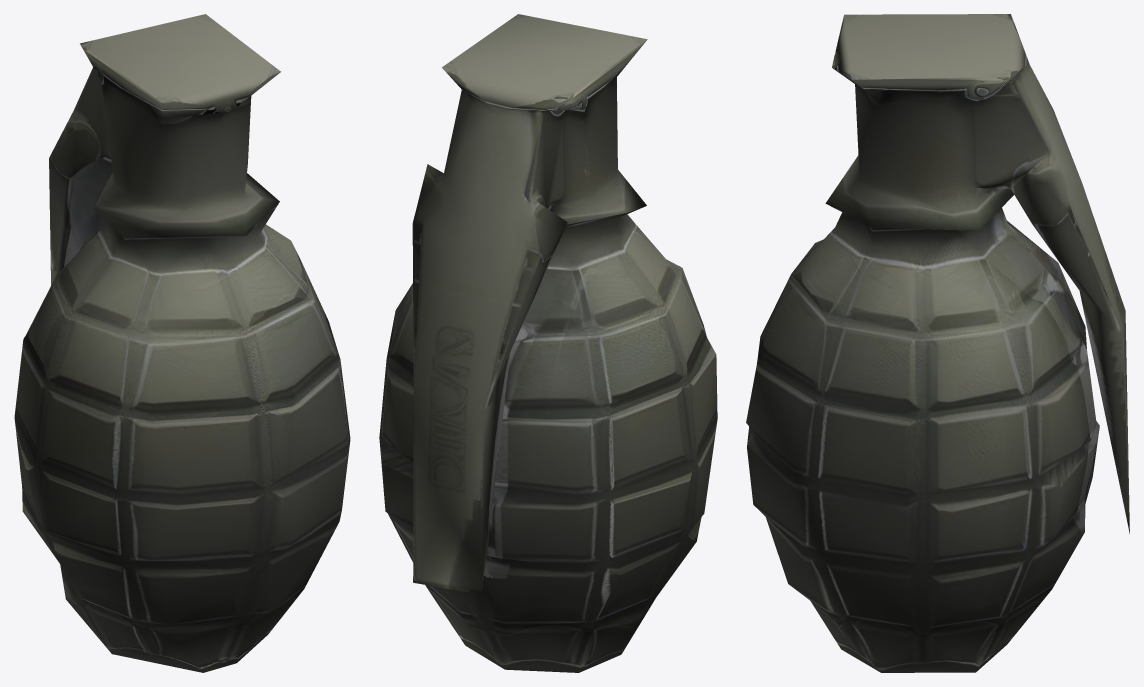
The picture shows the model from 3 angles, left to right: view 1: azimuth 30°, elevation 25°; view 2: azimuth 150°, elevation 25°; view 3: azimuth 270°, elevation 25°; orthographic projection. The views are drawn at different scales.
Parts seen in each view (by area): view 1: tripo_node_f3284a70-fe3c-4b2c-b9ae-83c4ae5212b3; view 2: tripo_node_f3284a70-fe3c-4b2c-b9ae-83c4ae5212b3; view 3: tripo_node_f3284a70-fe3c-4b2c-b9ae-83c4ae5212b3.
Part boxes in pixels (x1,y1,x2,y2): tripo_node_f3284a70-fe3c-4b2c-b9ae-83c4ae5212b3: (14, 14, 350, 672); tripo_node_f3284a70-fe3c-4b2c-b9ae-83c4ae5212b3: (379, 14, 717, 672); tripo_node_f3284a70-fe3c-4b2c-b9ae-83c4ae5212b3: (746, 14, 1129, 672).
Bounding box in the file's own units: 0.5109 × 0.9476 × 0.5495.
1 material, 1 textured.
